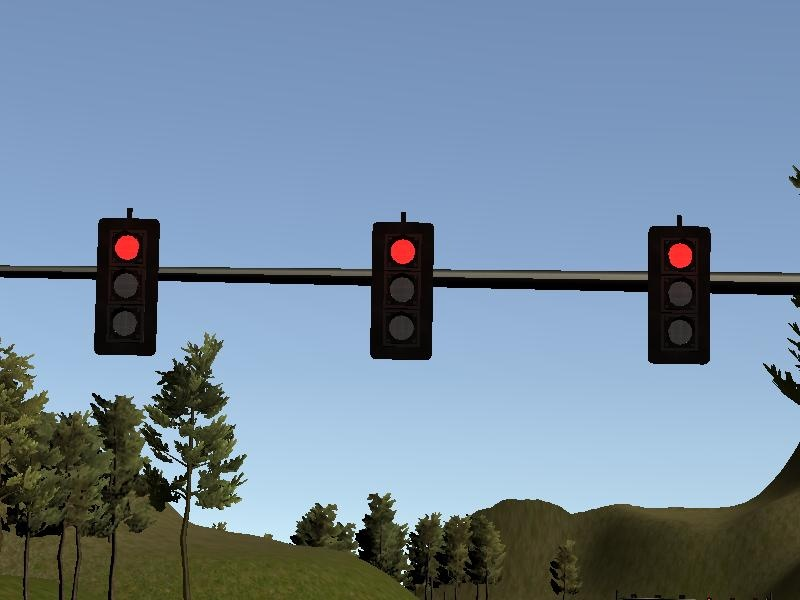red: (96, 218, 162, 356), (370, 222, 434, 361), (648, 225, 711, 366)
